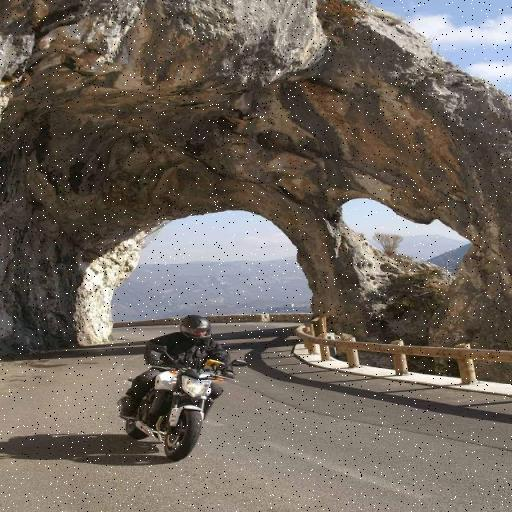Helmet: (181, 314, 211, 344)
Motor: (121, 369, 211, 459)
